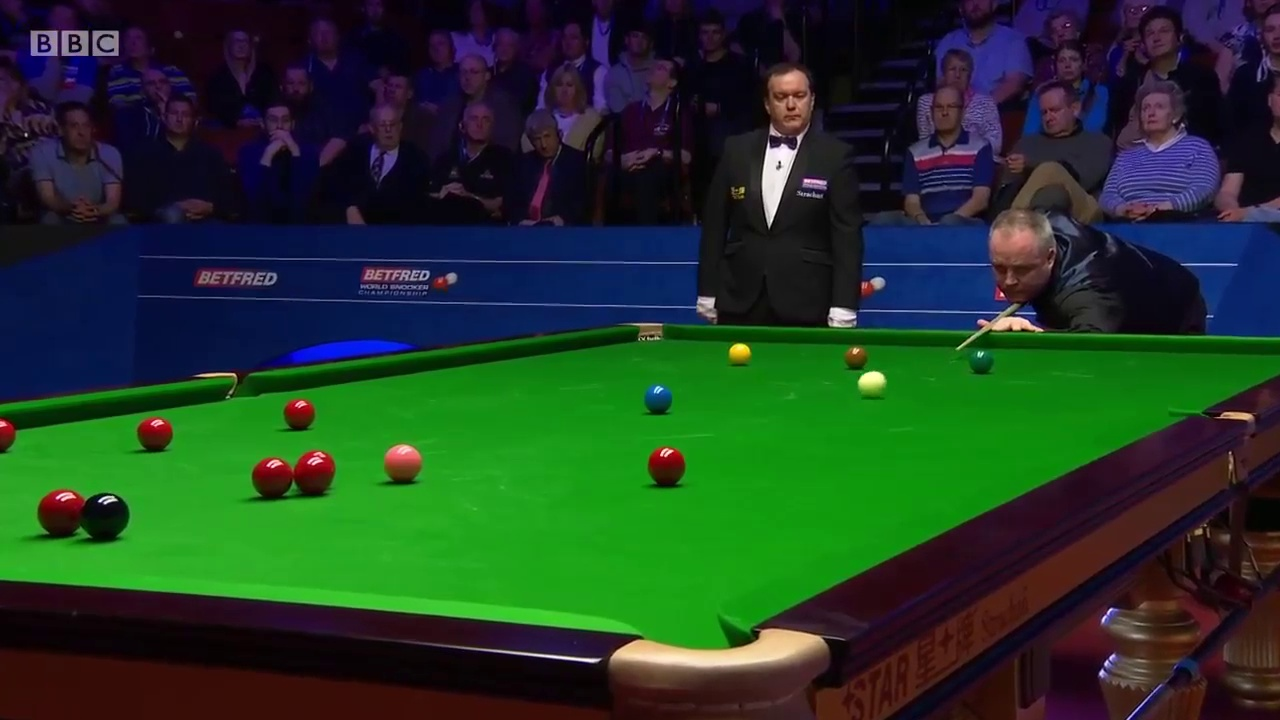black: (81, 494, 129, 539)
blue: (644, 386, 671, 414)
brown: (845, 346, 867, 365)
green: (968, 351, 992, 375)
pink: (383, 447, 423, 481)
red: (38, 492, 79, 537), (649, 448, 685, 490), (254, 458, 292, 495), (294, 457, 330, 494), (137, 416, 172, 453), (282, 399, 315, 430)
white: (857, 372, 889, 400)
yellow: (728, 344, 751, 365)
